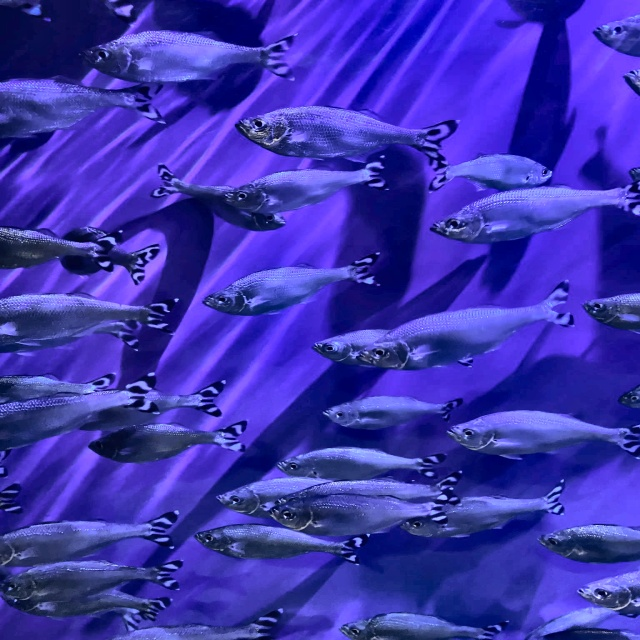fish: (356, 279, 573, 373), (430, 177, 639, 247), (235, 104, 463, 168), (78, 28, 302, 90), (0, 370, 158, 450), (259, 468, 465, 528), (202, 251, 385, 318), (399, 478, 568, 540), (227, 154, 393, 217), (0, 509, 183, 566), (0, 289, 191, 343), (447, 408, 637, 461), (0, 78, 168, 137), (155, 164, 285, 234), (268, 489, 454, 536), (0, 560, 188, 605), (90, 418, 249, 467), (193, 524, 370, 568), (0, 226, 128, 275), (215, 472, 340, 518), (320, 394, 463, 434), (273, 446, 449, 478), (427, 151, 552, 194), (338, 612, 510, 639), (114, 612, 284, 639), (538, 524, 639, 565), (0, 372, 118, 404), (311, 327, 398, 370), (146, 379, 231, 415), (577, 570, 639, 618), (583, 291, 639, 337), (115, 243, 166, 287), (589, 14, 639, 58), (622, 68, 639, 100)
